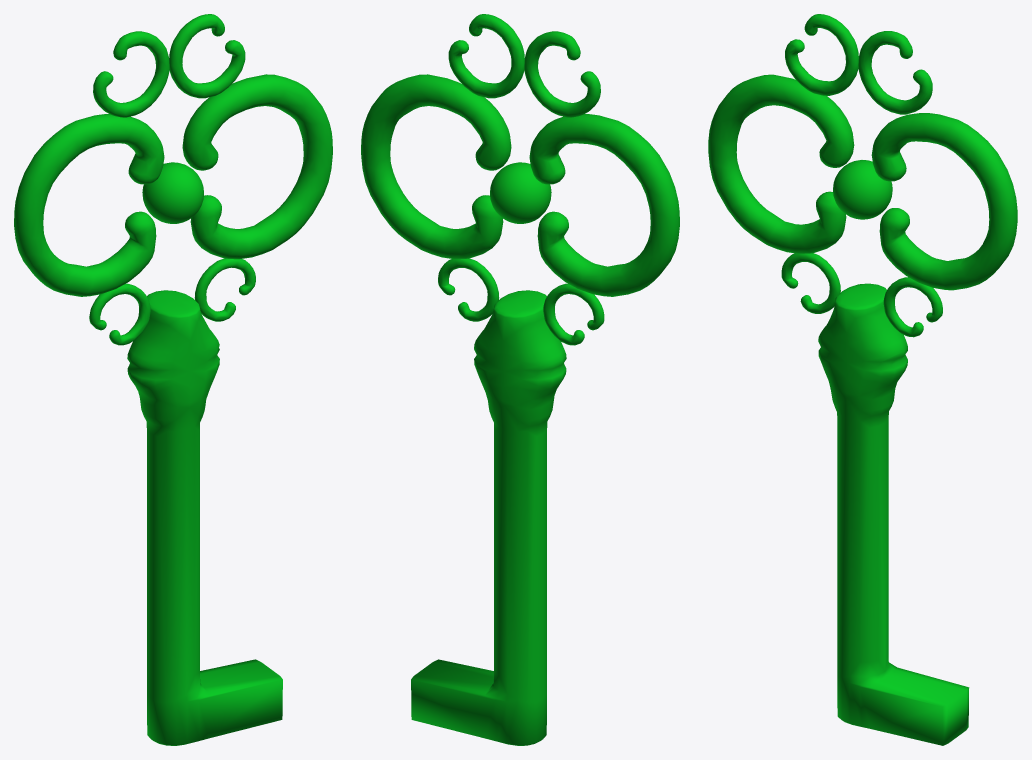
The model's file is green.fbx.
The picture shows the model from 3 angles, left to right: view 1: azimuth 30°, elevation 25°; view 2: azimuth 150°, elevation 25°; view 3: azimuth 330°, elevation 25°; orthographic projection. The views are drawn at different scales.
Visible parts, largest first — view 1: key_green; view 2: key_green; view 3: key_green.
Part boxes in pixels (<box>): key_green: <box>14,14,332,745</box>; key_green: <box>361,14,679,745</box>; key_green: <box>708,14,1017,745</box>.
Bounding box in the file's own units: 51.74 × 113 × 9.7.
